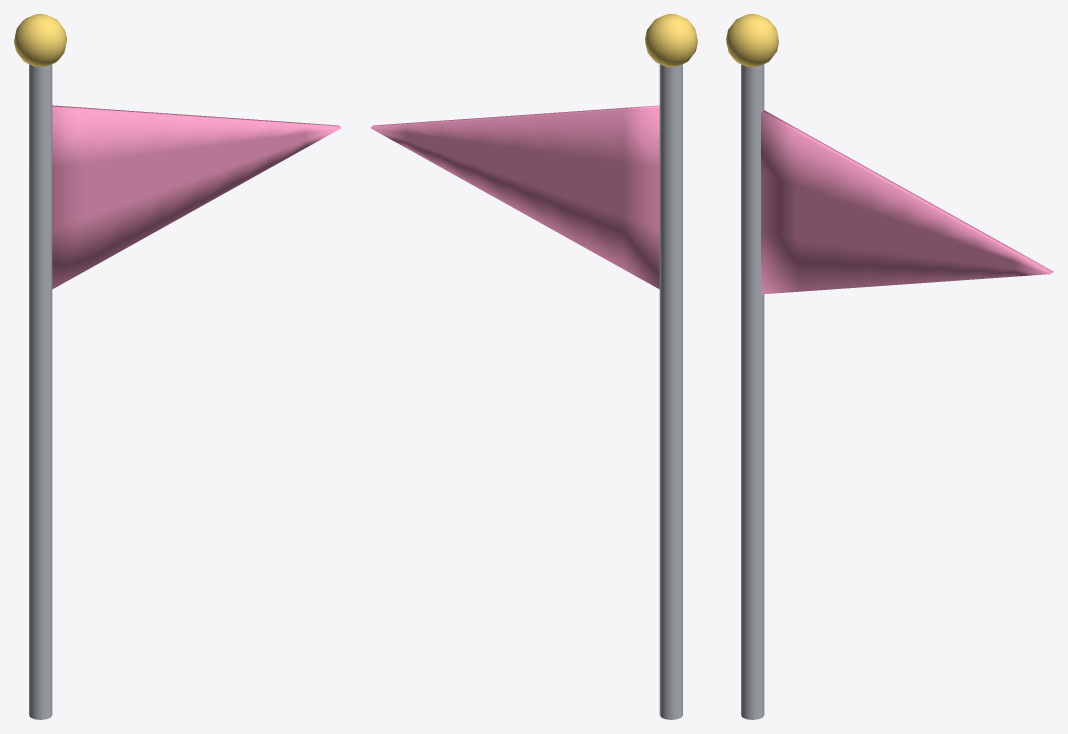
The model's file is flag.glb.
The picture shows the model from 3 angles, left to right: view 1: azimuth 30°, elevation 25°; view 2: azimuth 150°, elevation 25°; view 3: azimuth 330°, elevation 25°; orthographic projection.
Visible parts, largest first — view 1: Pennant, Pole, PoleTop; view 2: Pennant, Pole, PoleTop; view 3: Pennant, Pole, PoleTop.
Part boxes in pixels (x1=…): Pennant: x1=52, y1=105, x2=341, y2=289; Pole: x1=29, y1=64, x2=52, y2=719; PoleTop: x1=14, y1=14, x2=66, y2=66; Pennant: x1=370, y1=105, x2=659, y2=289; Pole: x1=659, y1=64, x2=682, y2=719; PoleTop: x1=645, y1=14, x2=697, y2=66; Pennant: x1=761, y1=110, x2=1053, y2=294; Pole: x1=741, y1=64, x2=764, y2=719; PoleTop: x1=726, y1=14, x2=778, y2=66.
Size of the model in its own units: 2.23 by 4.61 by 0.32.
